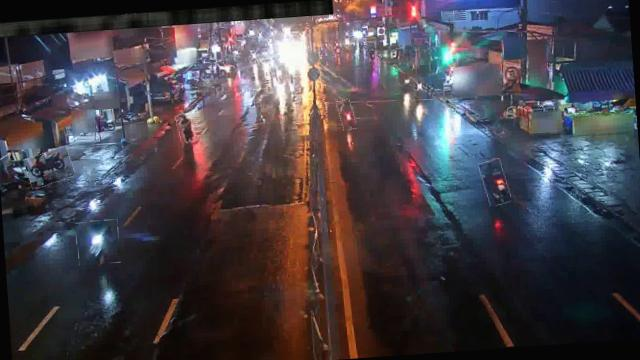Bike: (76, 218, 120, 265), (23, 148, 74, 187), (480, 158, 509, 206), (338, 98, 356, 130), (176, 112, 194, 142), (253, 86, 279, 106)
